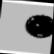correct: (21, 11, 53, 40)
